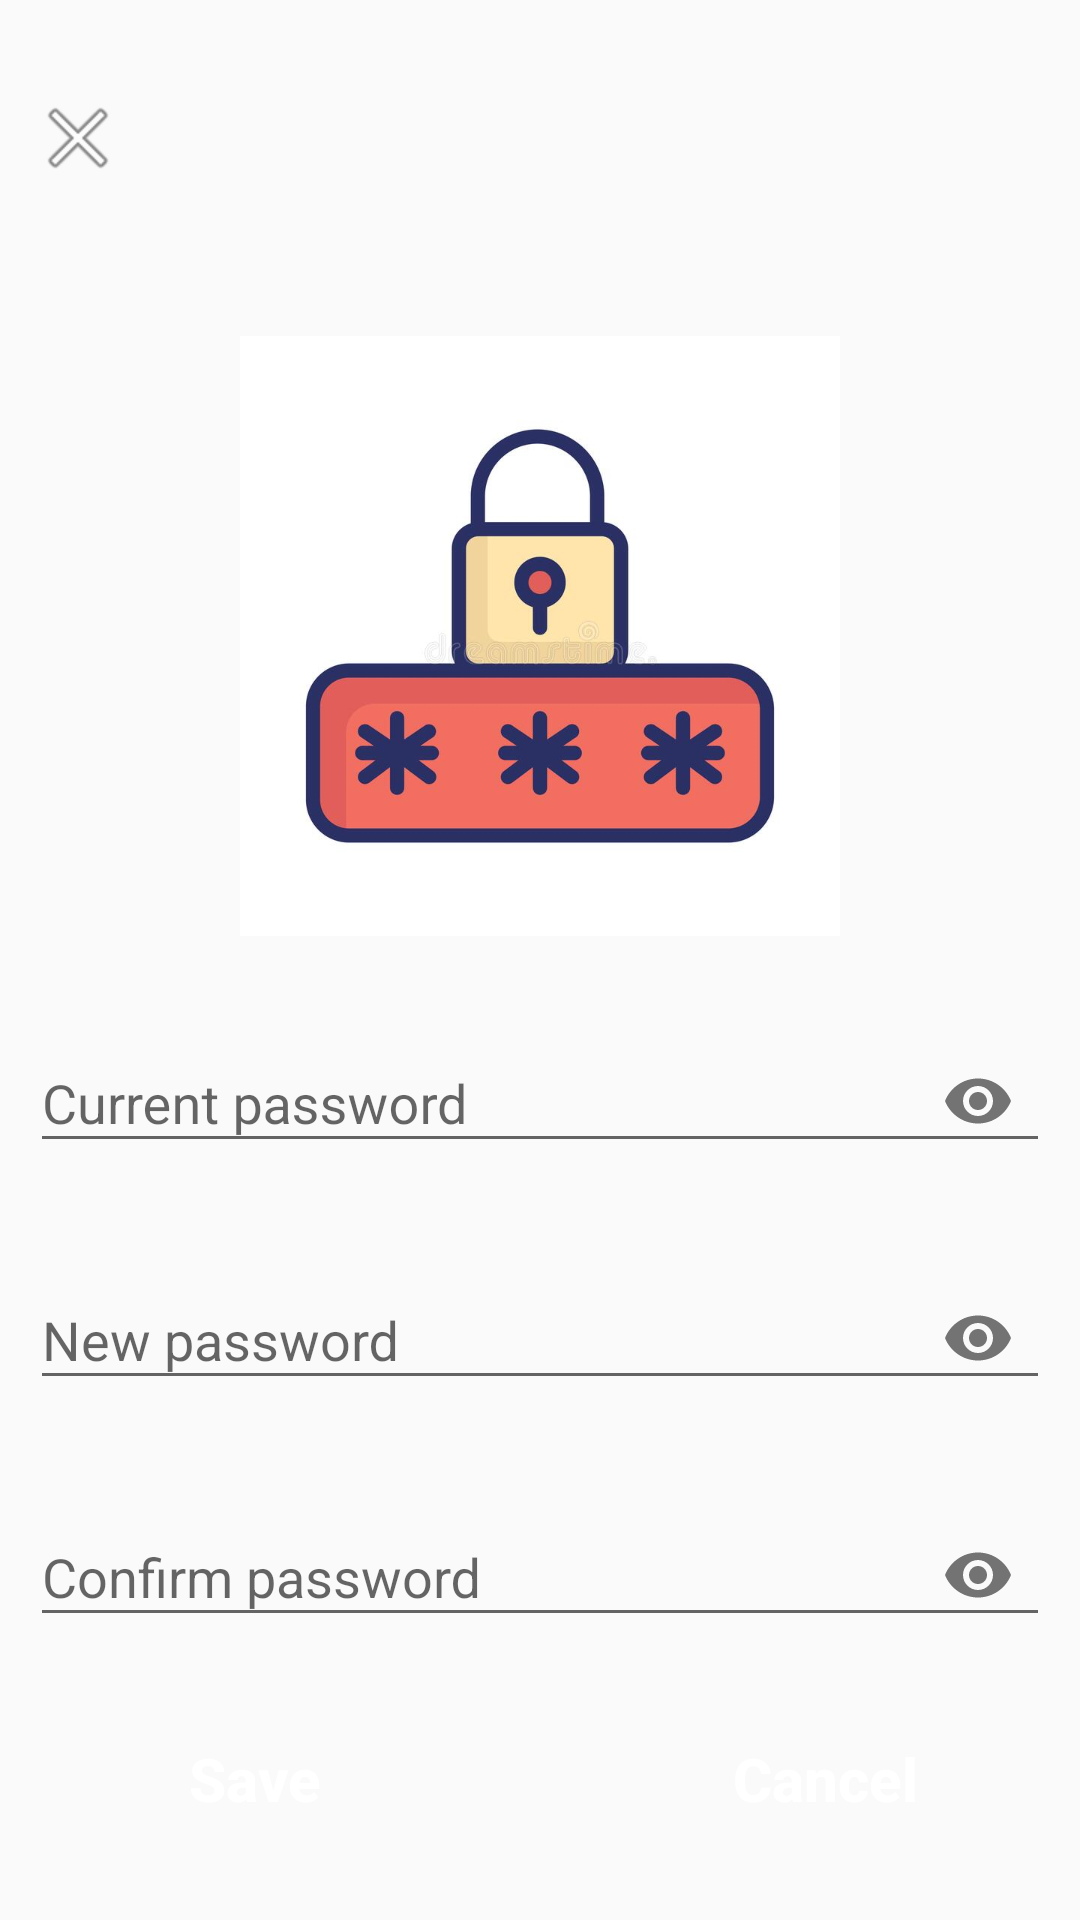

Icons on this 1080*1920 Android screen, each with the point to tap as point (x, y):
close clear cancel: point (78, 138)
